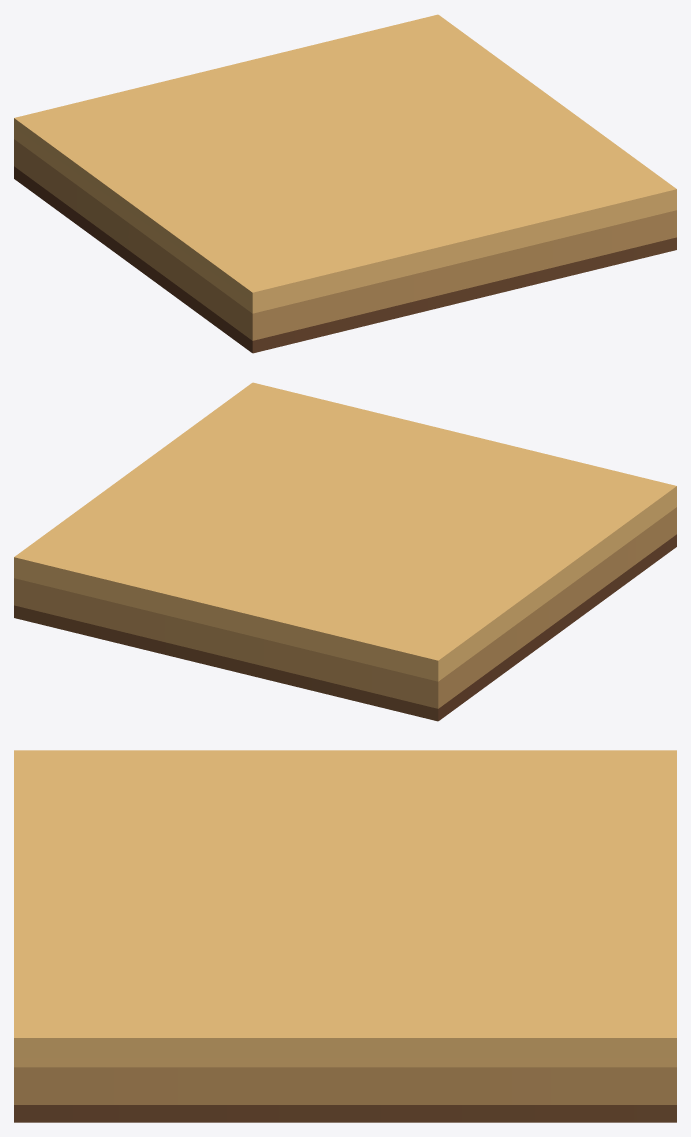
Rendered from ground.fbx.
3 renders of one model, top to bottom at view 1: azimuth 30°, elevation 25°; view 2: azimuth 150°, elevation 25°; view 3: azimuth 270°, elevation 25°, orthographic. The views are drawn at different scales.
Visible parts, largest first — view 1: Cube.540; view 2: Cube.540; view 3: Cube.540.
Boxes of the visible parts, x1=… form: Cube.540: x1=14, y1=14, x2=676, y2=353; Cube.540: x1=14, y1=382, x2=676, y2=721; Cube.540: x1=14, y1=750, x2=676, y2=1122.
Bounding box in the file's own units: 165 × 22.6 × 161.
1 material, 1 textured.
